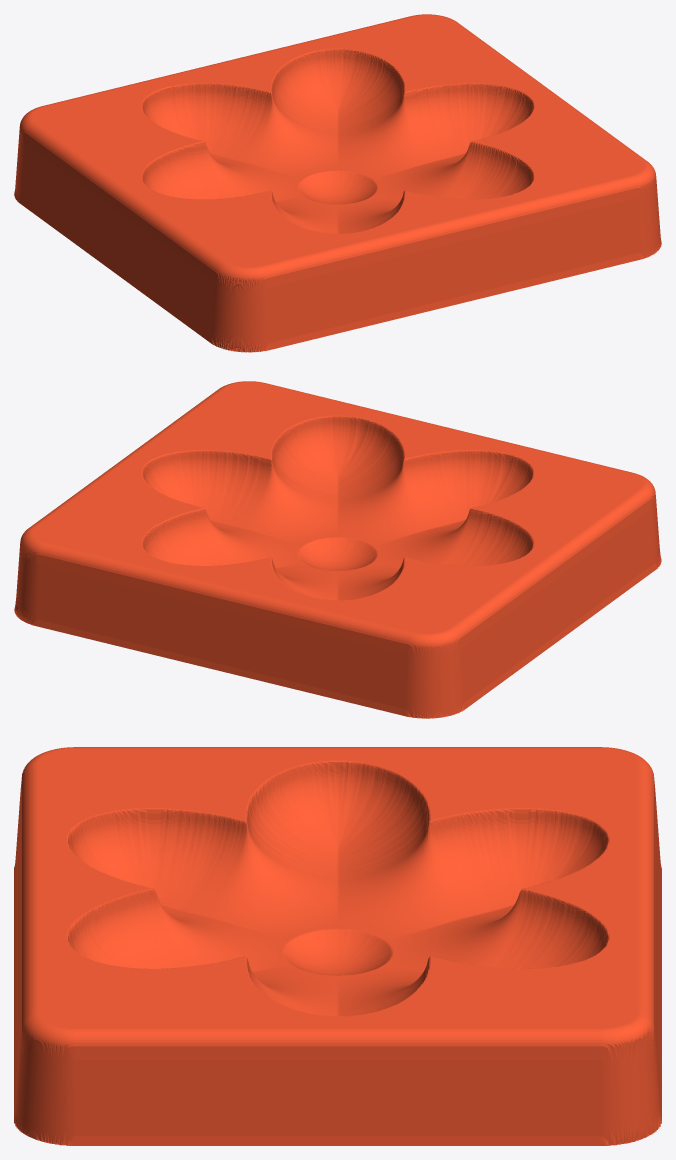
The model's file is mold.glb.
3 views of the same model, one above another, from view 1: azimuth 30°, elevation 25°; view 2: azimuth 150°, elevation 25°; view 3: azimuth 270°, elevation 25° (orthographic). The views are drawn at different scales.
Visible parts, largest first — view 1: geometry_0; view 2: geometry_0; view 3: geometry_0.
Boxes of the visible parts, bbox=[...] form: geometry_0: bbox=[14, 14, 661, 352]; geometry_0: bbox=[14, 381, 661, 718]; geometry_0: bbox=[14, 747, 661, 1145].
Bounding box in the file's own units: 0.105 × 0.0175 × 0.0958.
